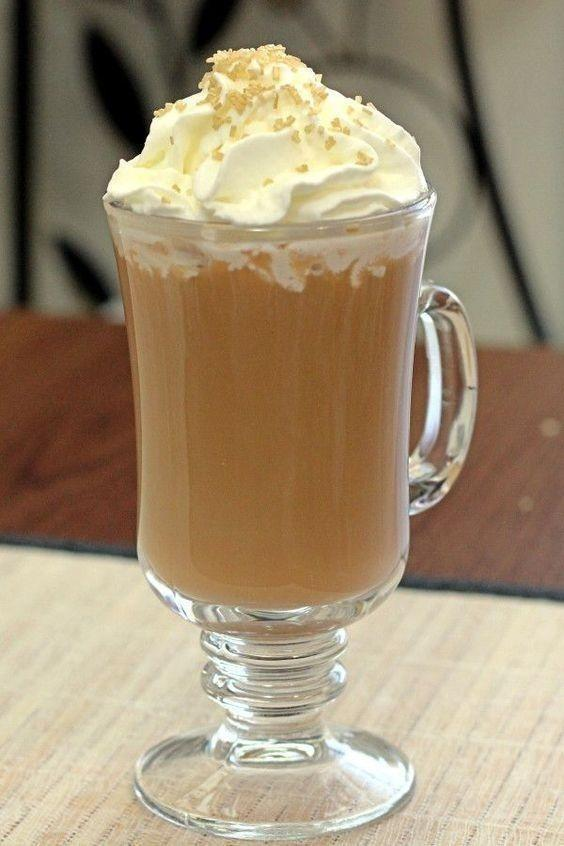glass-mug: (103, 141, 484, 844)
